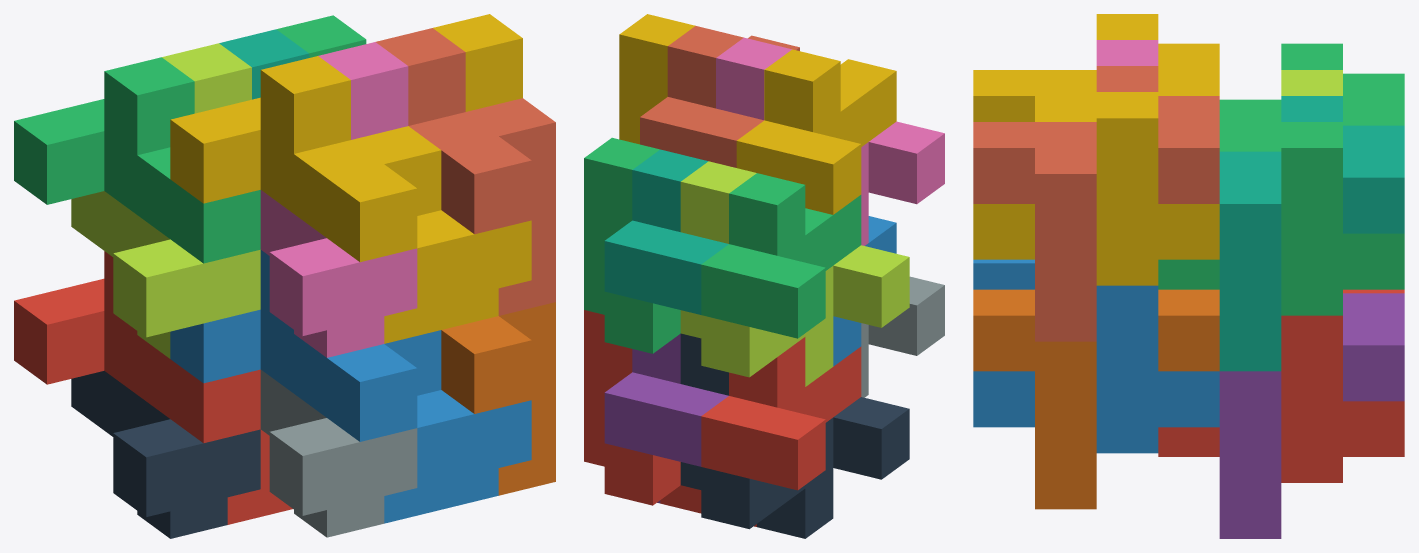
Rendered from tiling.obj.
The picture shows the model from 3 angles, left to right: view 1: azimuth 30°, elevation 25°; view 2: azimuth 150°, elevation 25°; view 3: azimuth 270°, elevation 25°; orthographic projection. The views are drawn at different scales.
Visible parts, largest first — view 1: copy_1_domain_4, copy_1_domain_3, copy_1_domain_8, copy_1_domain_2, copy_2_domain_4, copy_1_domain_1, copy_2_domain_3, copy_2_domain_1, copy_2_domain_8, copy_2_domain_2, copy_1_domain_6, copy_2_domain_6 (+2 smaller); view 2: copy_1_domain_3, copy_1_domain_4, copy_2_domain_3, copy_1_domain_1, copy_2_domain_1, copy_1_domain_7, copy_2_domain_7, copy_2_domain_4, copy_1_domain_8, copy_1_domain_5, copy_2_domain_5, copy_2_domain_8 (+2 smaller); view 3: copy_1_domain_8, copy_1_domain_7, copy_1_domain_6, copy_2_domain_8, copy_2_domain_6, copy_2_domain_7, copy_1_domain_5, copy_2_domain_5, copy_1_domain_4, copy_1_domain_3, copy_1_domain_2, copy_2_domain_4 (+1 smaller).
Part boxes in pixels (x1,y1,x2,y2): copy_1_domain_4: (170,56,441,343); copy_1_domain_3: (14,57,260,263); copy_1_domain_8: (376,28,555,315); copy_1_domain_2: (170,250,441,523); copy_2_domain_4: (260,42,417,357); copy_1_domain_1: (14,251,284,524); copy_2_domain_3: (71,43,260,358); copy_2_domain_1: (71,371,260,538); copy_2_domain_8: (417,14,531,329); copy_2_domain_2: (260,369,417,537); copy_1_domain_6: (441,302,555,495); copy_2_domain_6: (417,390,531,509); copy_1_domain_3: (701,173,861,338); copy_1_domain_4: (736,49,896,214); copy_2_domain_3: (680,161,909,386); copy_1_domain_1: (701,337,861,526); copy_2_domain_1: (680,333,909,538); copy_1_domain_7: (604,149,728,314); copy_2_domain_7: (584,137,680,353); copy_2_domain_4: (716,37,944,245); copy_1_domain_8: (640,26,799,167); copy_1_domain_5: (604,334,728,503); copy_2_domain_5: (584,310,701,513); copy_2_domain_8: (619,14,695,144); copy_1_domain_8: (973,66,1219,341); copy_1_domain_7: (1219,96,1404,371); copy_1_domain_6: (973,289,1219,509); copy_2_domain_8: (973,92,1219,285); copy_2_domain_6: (973,285,1219,453); copy_2_domain_7: (1158,122,1404,315); copy_1_domain_5: (1219,293,1404,538); copy_2_domain_5: (1158,315,1404,482); copy_1_domain_4: (973,14,1219,121); copy_1_domain_3: (1219,43,1404,151); copy_1_domain_2: (973,259,1034,289); copy_2_domain_4: (1096,40,1158,65).
Bounding box in the file's own units: 6 × 8 × 7.
